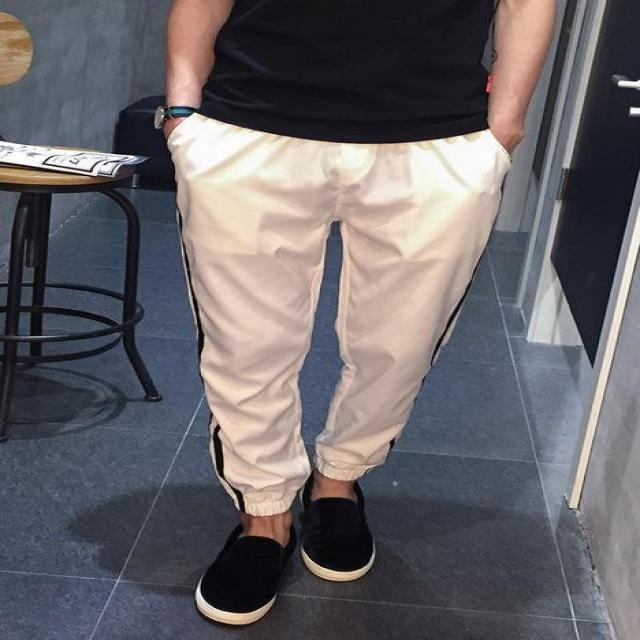short sleeve top: (189, 2, 496, 143)
trousers: (179, 98, 498, 508)
